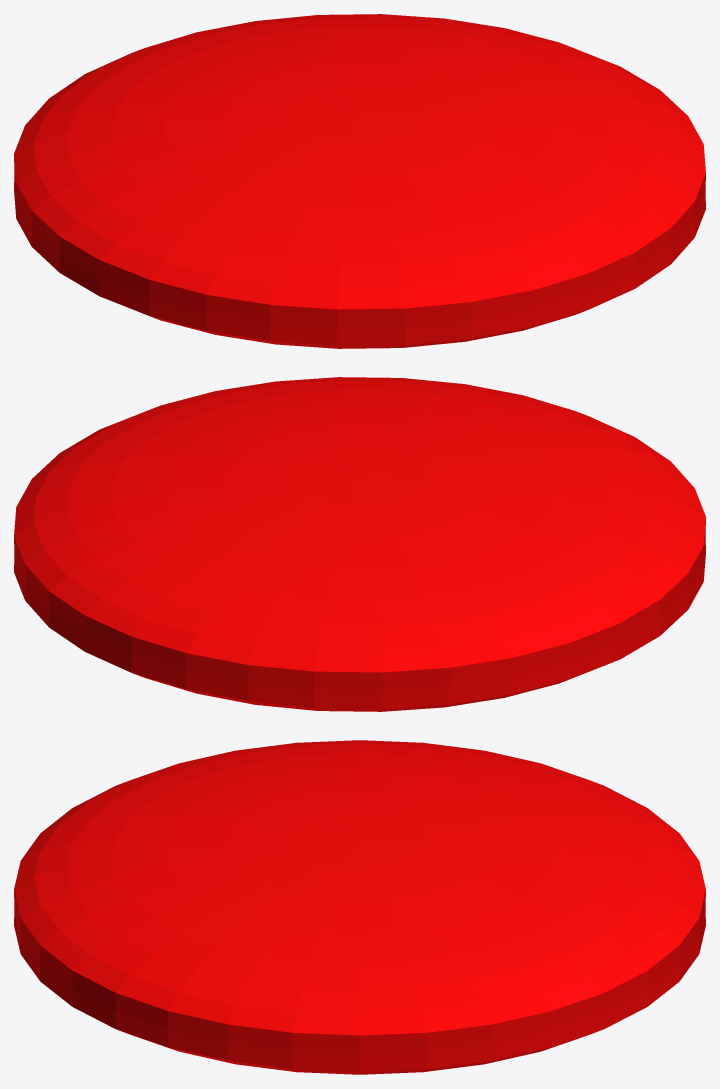
Rendered from _edlenz.fbx.
3 views of the same model, one above another, from view 1: azimuth 30°, elevation 25°; view 2: azimuth 150°, elevation 25°; view 3: azimuth 270°, elevation 25° (orthographic).
Visible parts, largest first — view 1: Sphere.002; view 2: Sphere.002; view 3: Sphere.002.
Boxes of the visible parts, left/top/right/bottom form: Sphere.002: left=14, top=14, right=705, bottom=348; Sphere.002: left=14, top=377, right=705, bottom=711; Sphere.002: left=14, top=740, right=705, bottom=1074.
Size of the model in its own units: 6.57 by 1.41 by 6.57.
